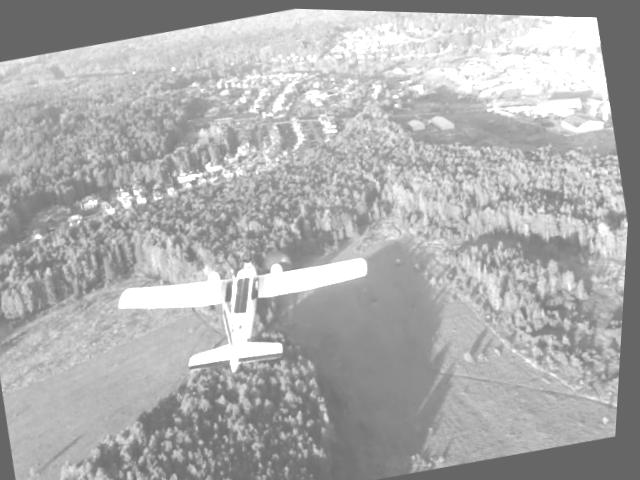hedef: (96, 227, 393, 398)
